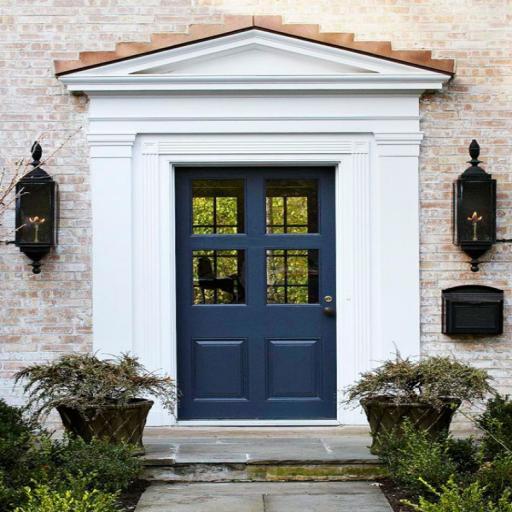Door: (173, 167, 336, 421)
Stairs: (133, 426, 396, 512)
